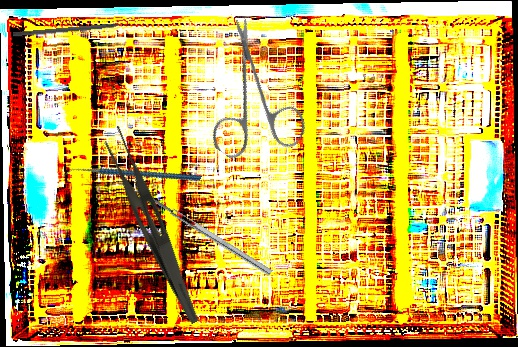Chopper: (62, 126, 202, 227)
Dressing Forceps: (91, 123, 221, 326)
Hook Surgical: (12, 21, 135, 39)
Iris Scissors: (168, 15, 339, 185)
Spatula Surgical: (128, 184, 273, 282)
